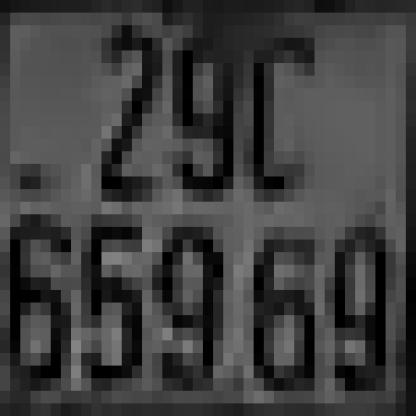2: (102, 38, 152, 202)
5: (81, 202, 142, 378)
6: (244, 214, 314, 378), (10, 202, 71, 366)
9: (314, 214, 386, 378), (152, 214, 213, 378), (173, 38, 223, 202)
C: (244, 38, 314, 202)
